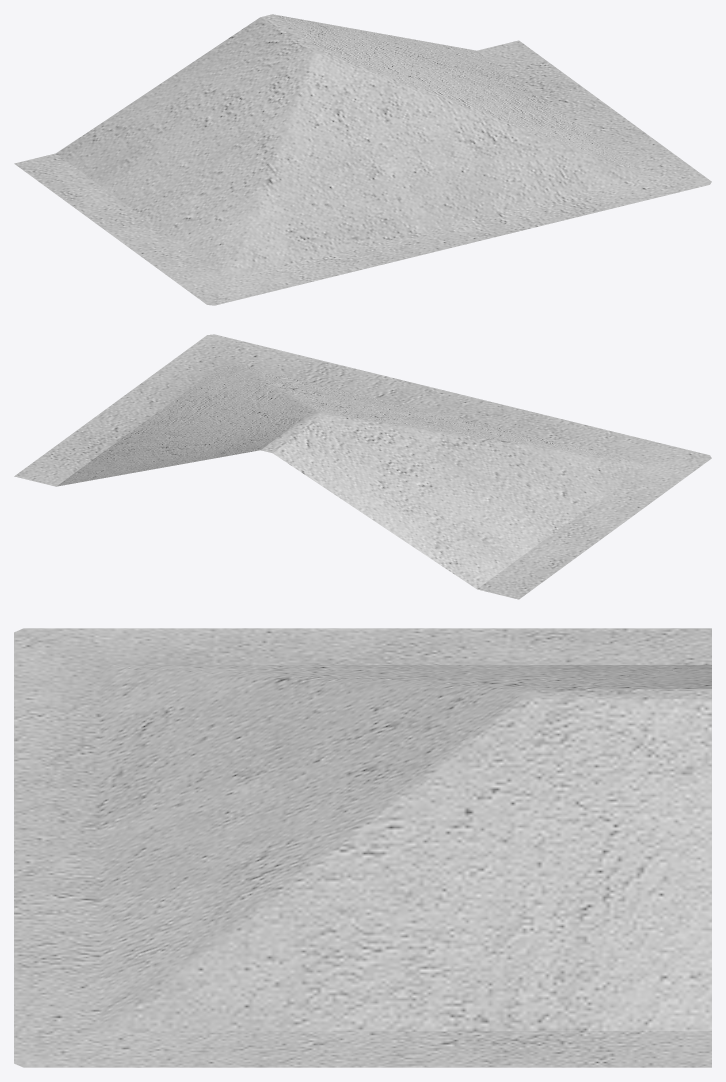
The model's file is WC_RoofEnd.fbx.
3 renders of one model, top to bottom at view 1: azimuth 30°, elevation 25°; view 2: azimuth 150°, elevation 25°; view 3: azimuth 270°, elevation 25°, orthographic. The views are drawn at different scales.
Visible parts, largest first — view 1: WC_RoofEnd; view 2: WC_RoofEnd; view 3: WC_RoofEnd.
Part boxes in pixels (<box>): WC_RoofEnd: <box>14,14,711,305</box>; WC_RoofEnd: <box>14,334,711,599</box>; WC_RoofEnd: <box>14,628,711,1067</box>.
Bounding box in the file's own units: 1166 × 190 × 783.
